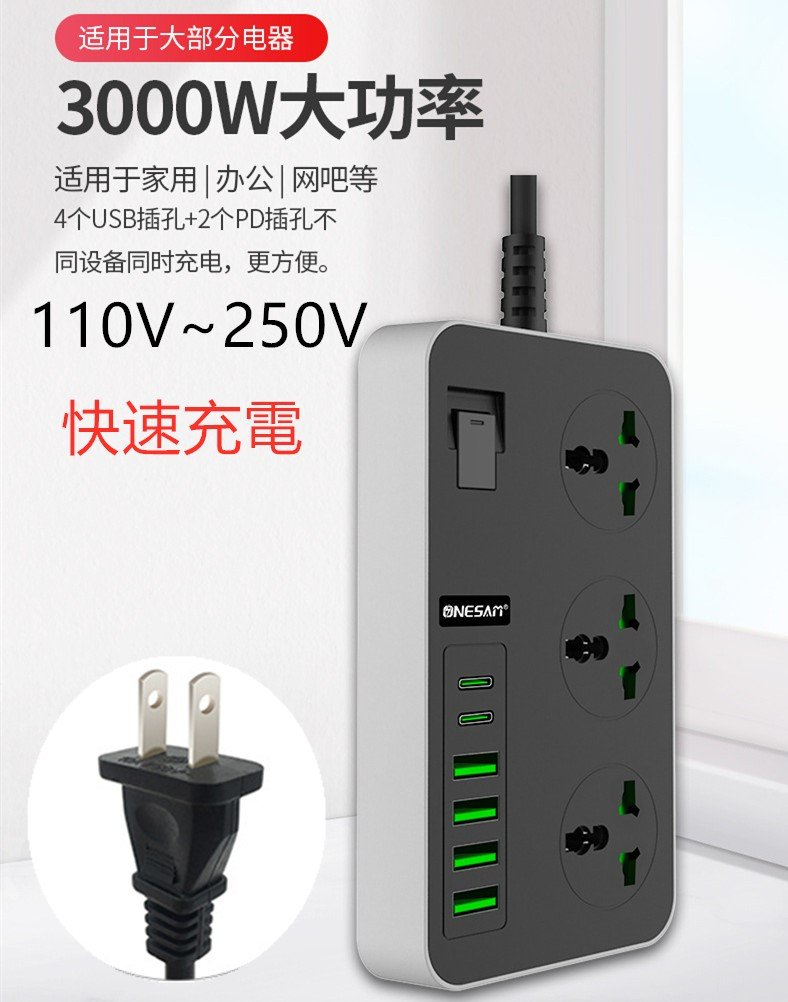socket: (353, 238, 676, 991)
